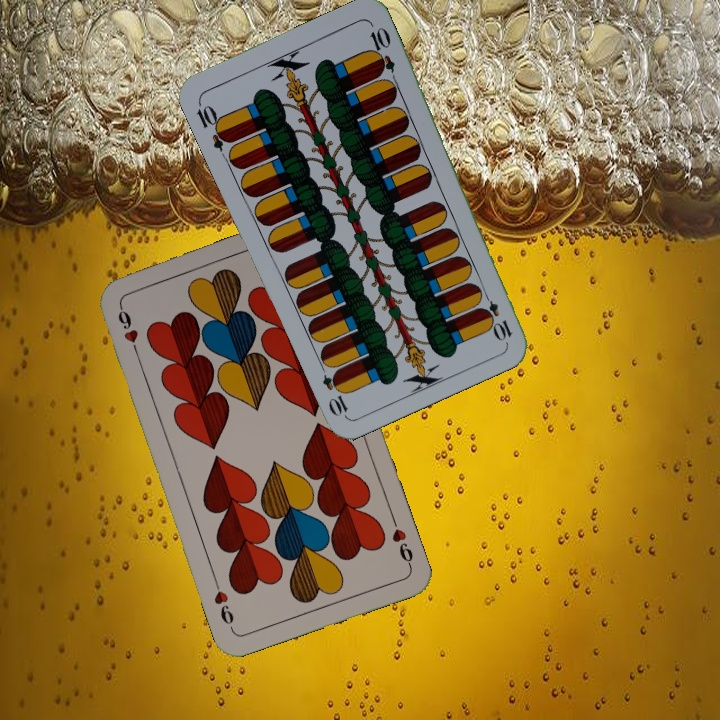E10: (192, 97, 234, 153), (477, 287, 515, 343)
H9: (387, 513, 416, 570), (113, 301, 141, 358)
